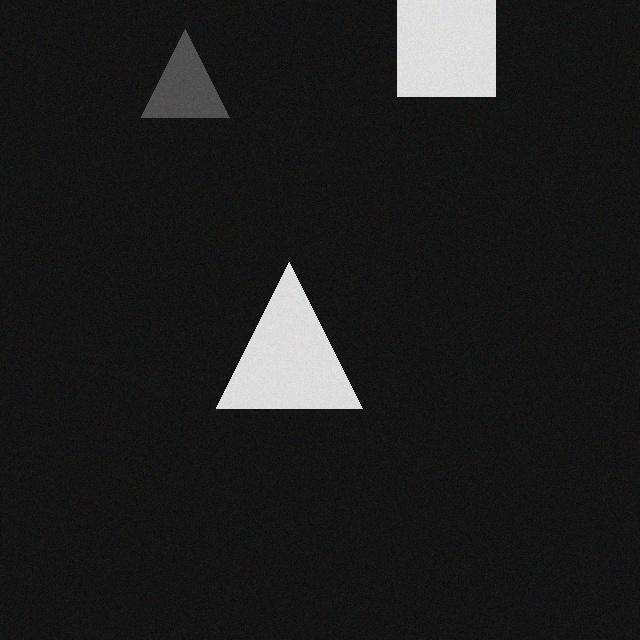square: (382, 11, 480, 109)
triangle: (201, 275, 347, 421), (126, 42, 214, 130)
